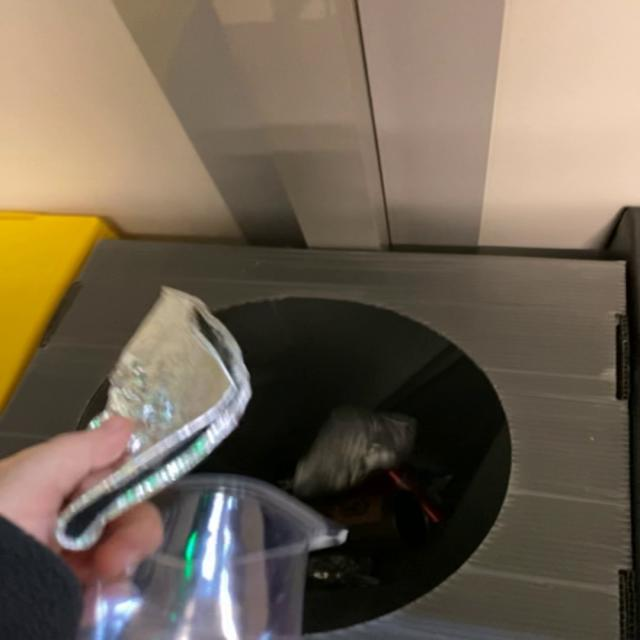bin: (1, 241, 631, 640)
metal: (53, 287, 249, 551), (292, 407, 414, 498)
